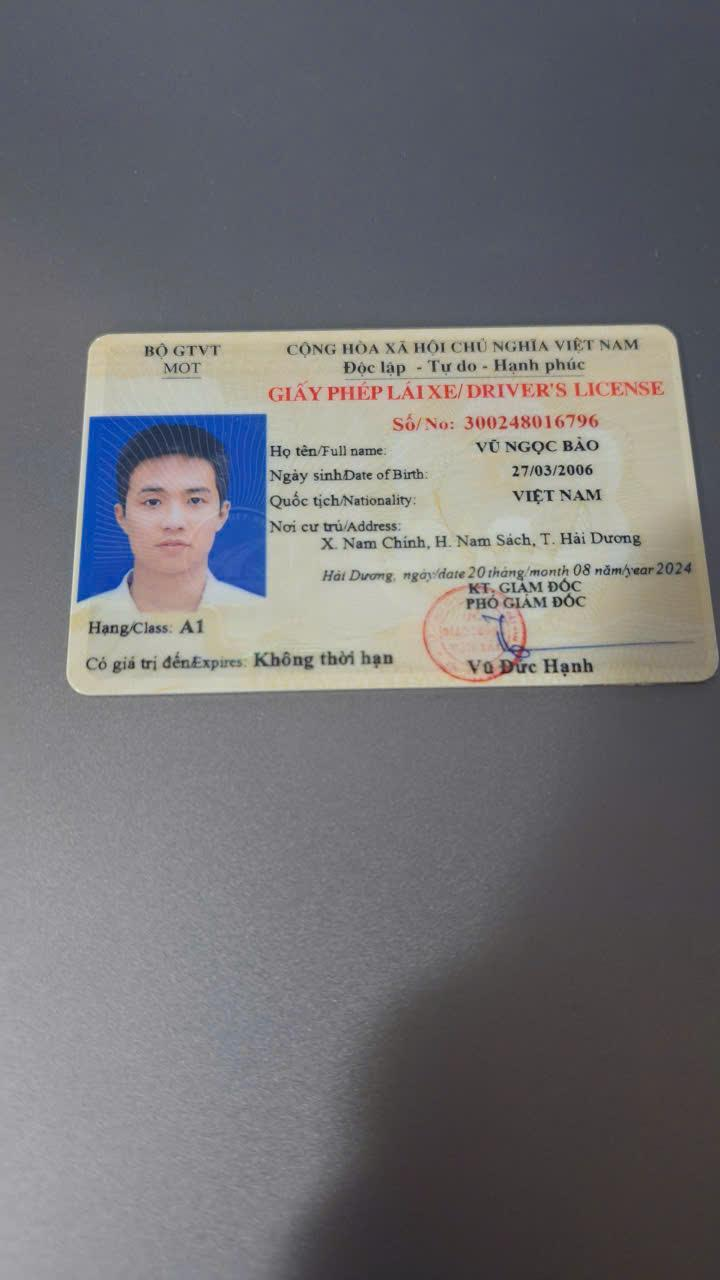gplx: (60, 317, 718, 708)
